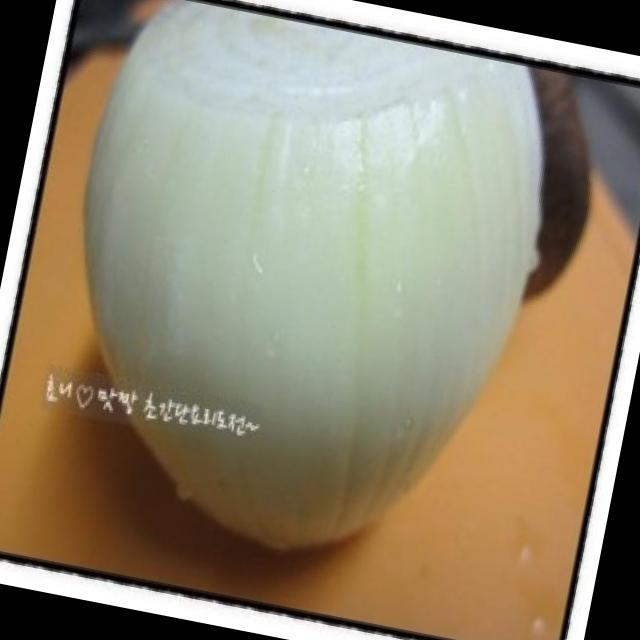Onion: (83, 0, 542, 543)
